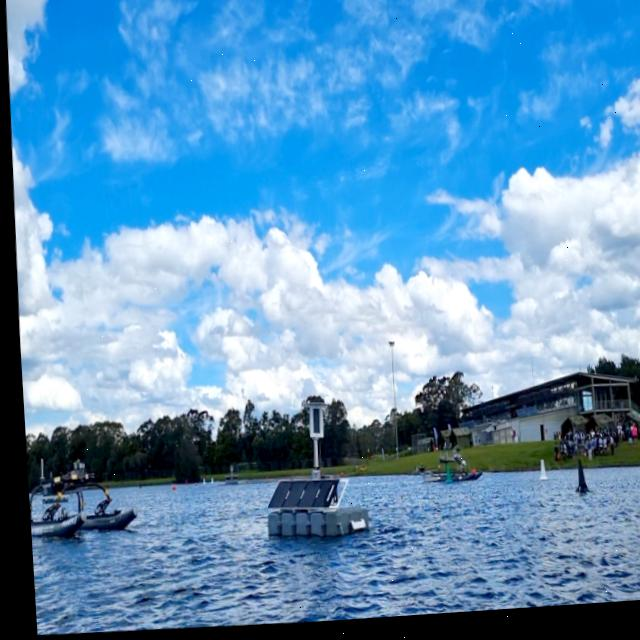led: (304, 409, 318, 440)
